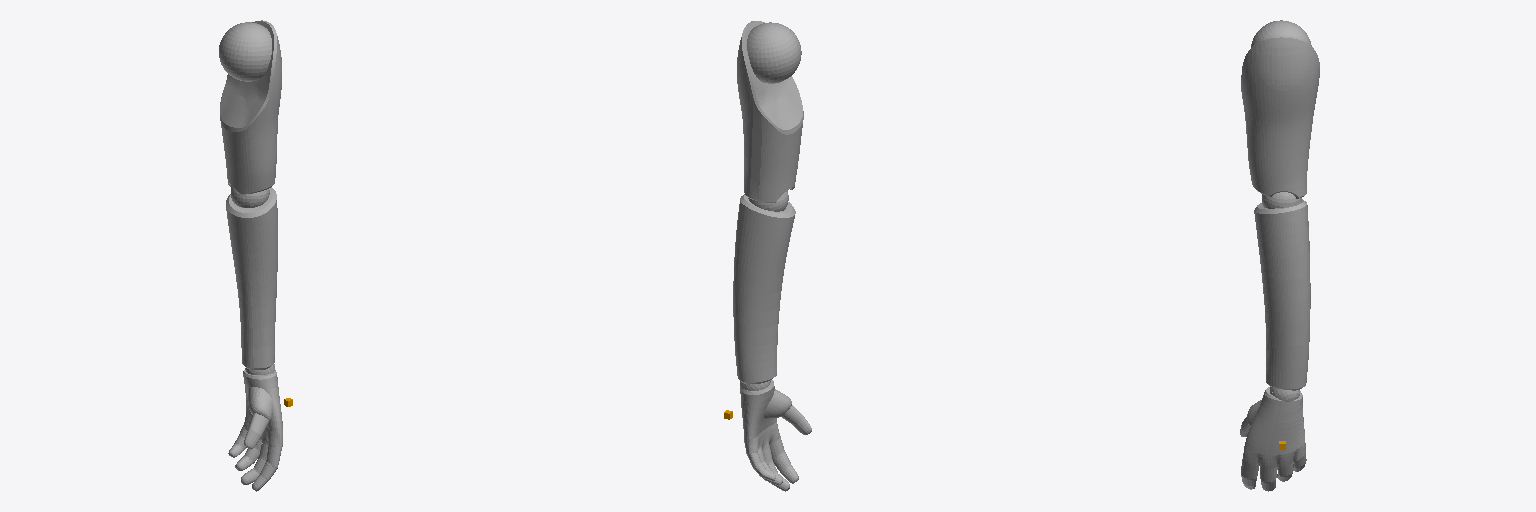
URDF robot description (human_arm):
<?xml version="1.0" ?>
<robot name="human_arm">

  <material name="silver">
    <color rgba="0.700 0.700 0.700 1.000"/>
  </material>

  <link name="base_link">
    <inertial>
      <origin xyz="0.0 0.0 0.0" rpy="0 0 0"/>
      <mass value="0.0"/>
      <inertia ixx="0.0" iyy="0.0" izz="0.0" ixy="0.0" iyz="0.0" ixz="0.0"/>
    </inertial>
  </link>

  <joint name="base_fixed" type="fixed">
    <origin rpy="0 0 0.0" xyz="0 0 0.0"/>
    <parent link="base_link"/>
    <child link="base_link_0"/>
  </joint>

  <link name="base_link_0">
    <inertial>
      <origin xyz="0.0 0.0 0.0" rpy="0 0 0"/>
      <mass value="0.0"/>
      <inertia ixx="0.0" iyy="0.0" izz="0.0" ixy="0.0" iyz="0.0" ixz="0.0"/>
    </inertial>
  </link>

  <link name="base_link_1">
    <inertial>
      <origin xyz="0.0 0.0 0.0" rpy="0 0 0"/>
      <mass value="0.0"/>
      <inertia ixx="0.0" iyy="0.0" izz="0.0" ixy="0.0" iyz="0.0" ixz="0.0"/>
    </inertial>
  </link>

  <link name="base_link_2">
    <inertial>
      <origin xyz="0.0 0.0 0.0" rpy="0 0 0"/>
      <mass value="0.0"/>
      <inertia ixx="0.0" iyy="0.0" izz="0.0" ixy="0.0" iyz="0.0" ixz="0.0"/>
    </inertial>
  </link>

    <link name="hand_x">
    <inertial>
      <origin xyz="0.0 0.0 0.0" rpy="0 0 0"/>
      <mass value="0.0"/>
      <inertia ixx="0.0" iyy="0.0" izz="0.0" ixy="0.0" iyz="0.0" ixz="0.0"/>
    </inertial>
  </link>

  <link name="upper_arm">
    <inertial>
      <origin xyz="0.00277 -0.00352 -0.098" rpy="0 0 0"/>
      <mass value="1.0"/>
      <inertia ixx="0.00691" iyy="0.00674" izz="0.00097" ixy="-6.65745e-06" iyz="-7.0718e-05" ixz="0.00015"/>
    </inertial>
    <visual>
      <origin xyz="0 0 0" rpy="0 0 0"/>
      <geometry>
        <mesh filename="upper.stl" scale="1.0 1.0 1.0"/>
      </geometry>
      <material name="silver"/>
    </visual>
    <collision>
      <origin xyz="0 0 0" rpy="0 0 0"/>
      <geometry>
        <mesh filename="upper.stl" scale="1.0 1.0 1.0"/>
      </geometry>
    </collision>
  </link>

  <link name="lower_arm">
    <inertial>
      <origin xyz="0.01457 9.28389e-05 -0.19143" rpy="0 0 0"/>
      <mass value="1.0"/>
      <inertia ixx="0.01712" iyy="0.01699" izz="0.00072" ixy="-5.34657e-05" iyz="-0.00071" ixz="0.00031"/>
    </inertial>
    <visual>
      <origin xyz="0.0 0.0 0.0" rpy="0 0 0"/>
      <geometry>
        <mesh filename="lower_without_hand.stl" scale="1.0 1.0 1.0"/>
      </geometry>
      <material name="silver"/>
    </visual>
    <collision>
      <origin xyz="0.0 0.0 0.0" rpy="0 0 0"/>
      <geometry>
        <mesh filename="lower_without_hand.stl" scale="1.0 1.0 1.0"/>
      </geometry>
    </collision>
  </link>

  <link name="hand">
    <inertial>
      <origin xyz="0.16051 -0.012319 0.075256" rpy="0 0 0"/>
      <mass value="1.0"/>
      <inertia ixx="0.01712" iyy="0.01699" izz="0.00072" ixy="-5.34657e-05" iyz="-0.00071" ixz="0.00031"/>
    </inertial>
    <visual>
      <origin xyz="0.0 0.0 0.0" rpy="0 0 0"/>
      <geometry>
        <mesh filename="hand.stl" scale="1.0 1.0 1.0"/>
      </geometry>
      <material name="silver"/>
    </visual>
    <collision>
      <origin xyz="0.0 0.0 0.0" rpy="0 0 0"/>
      <geometry>
        <mesh filename="hand.stl" scale="1.0 1.0 1.0"/>
      </geometry>
    </collision>
  </link>

  <joint name="base_x" type="continuous">
    <origin xyz="0.0 0.0 0.0" rpy="0 0 0"/>
    <parent link="base_link_0"/>
    <child link="base_link_1"/>
    <axis xyz="1.0 0.0 0.0"/>
    <limit effort="100" lower="-1.57" upper="1.57" velocity="5.0"/>
  </joint>

  <joint name="base_y" type="continuous">
    <origin xyz="0.0 0.0 0.0" rpy="0 0 0"/>
    <parent link="base_link_1"/>
    <child link="base_link_2"/>
    <axis xyz="0.0 1.0 0.0"/>
    <limit effort="100" lower="-1.57" upper="0" velocity="5.0"/>
  </joint>

  <joint name="base_z" type="continuous">
    <origin xyz="0.0 0.0 0.0" rpy="0 0 0"/>
    <parent link="base_link_2"/>
    <child link="upper_arm"/>
    <axis xyz="0.0 0.0 1.0"/>
    <limit effort="100" lower="0.0" upper="1.57" velocity="5.0"/>
  </joint>

  <joint name="upper_to_lower" type="continuous">
    <origin xyz="0.0 0.0 -0.24102" rpy="0 0 0"/>
    <parent link="upper_arm"/>
    <child link="lower_arm"/>
    <axis xyz="1.0 0.0 0.0"/>
    <limit effort="100" lower="-2.0944" upper="0.0" velocity="5.0"/>
  </joint>


  <joint name="lower_to_hand_x" type="continuous">
    <origin xyz="0.0 0.0 -0.296366" rpy="0 0 0"/>
    <parent link="lower_arm"/>
    <child link="hand_x"/>
    <axis xyz="1.0 0.0 0.0"/>
    <limit effort="100" lower="-2.0944" upper="0.0" velocity="5.0"/>
  </joint>


  <joint name="lower_to_hand" type="continuous">
    <origin xyz="0.0 0.0 0.0" rpy="0 0 0"/>
    <parent link="hand_x"/>
    <child link="hand"/>
    <axis xyz="0.0 1.0 0.0"/>
    <limit effort="100" lower="-2.0944" upper="0.0" velocity="5.0"/>
  </joint>



  <joint name="grasp_fixed_joint" type="fixed">
    <parent link="hand"/>
    <child link="ee_link"/>
    <origin rpy="0.0 0.0 0.0" xyz="0.07 0.0 -0.07"/> 
  </joint>

  <link name="ee_link">
    <inertial>
      <origin xyz="0.0 0.0 0.0" rpy="0 0 0"/>
      <mass value="0.0"/>
      <inertia ixx="0.0" iyy="0.0" izz="0.0" ixy="0.0" iyz="0.0" ixz="0.0"/>
    </inertial>
    <visual>
      <geometry>
        <box size="0.01 0.01 0.01"/>
      </geometry>
      <origin rpy="0 0 0" xyz="0.0 0 0"/>
    </visual>
  </link>

</robot>

--- Facts derived from the render (not from the file) ---
3 views of the same robot in one strip: view 1: azimuth 30°, elevation 25°; view 2: azimuth 150°, elevation 25°; view 3: azimuth 270°, elevation 25° (orthographic).
Model human_arm with 9 links and 8 joints (6 continuous, 2 fixed), rooted at base_link, posed all joints at 0.
Links seen in each view (by area): view 1: upper_arm, lower_arm, hand; view 2: upper_arm, lower_arm, hand; view 3: upper_arm, lower_arm, hand.
Link boxes in pixels (left/top/right/bottom): upper_arm: left=219, top=20, right=281, bottom=207; lower_arm: left=226, top=187, right=277, bottom=372; hand: left=228, top=368, right=282, bottom=491; upper_arm: left=737, top=21, right=803, bottom=211; lower_arm: left=733, top=194, right=795, bottom=385; hand: left=740, top=380, right=811, bottom=491; upper_arm: left=1241, top=20, right=1319, bottom=208; lower_arm: left=1254, top=199, right=1310, bottom=394; hand: left=1240, top=387, right=1306, bottom=491.
Bounding box of the posed robot: 0.1222 × 0.1181 × 0.7635 m (x, y, z).
3 mesh visuals loaded from 3 distinct referenced files (3 binary STL).